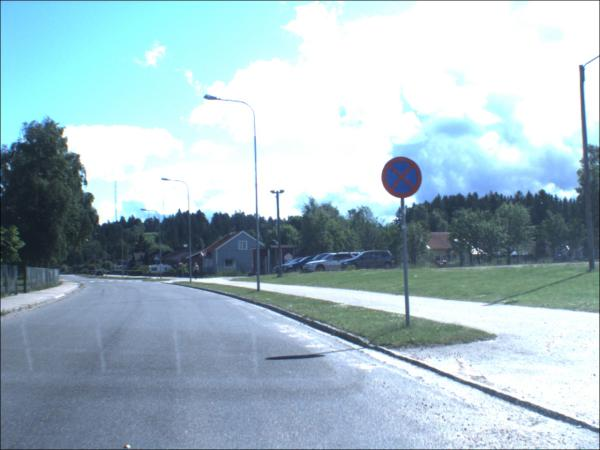NO_PARKING: (177, 257, 184, 264), (126, 259, 133, 265)
NO_STOPPING_NO_STANDING: (381, 152, 427, 203)
PEDESTRIAN_CROSSING: (155, 256, 161, 263)
